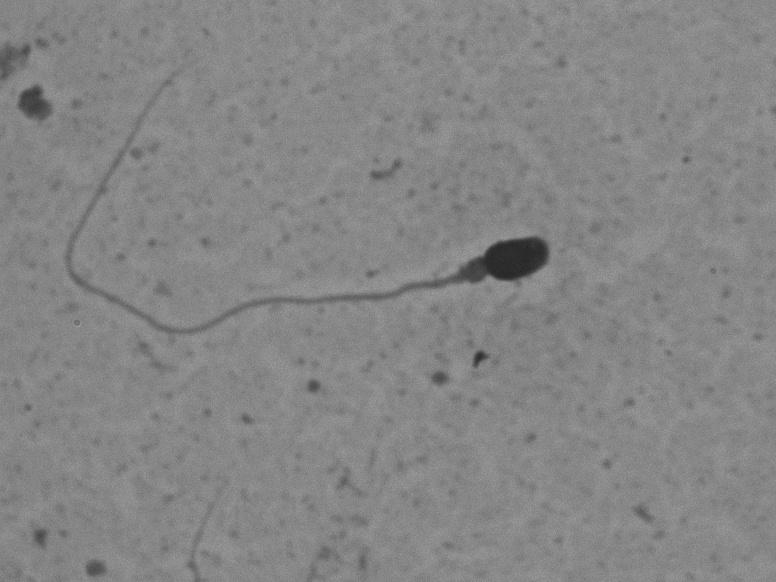Abnormal: (44, 72, 611, 355)
